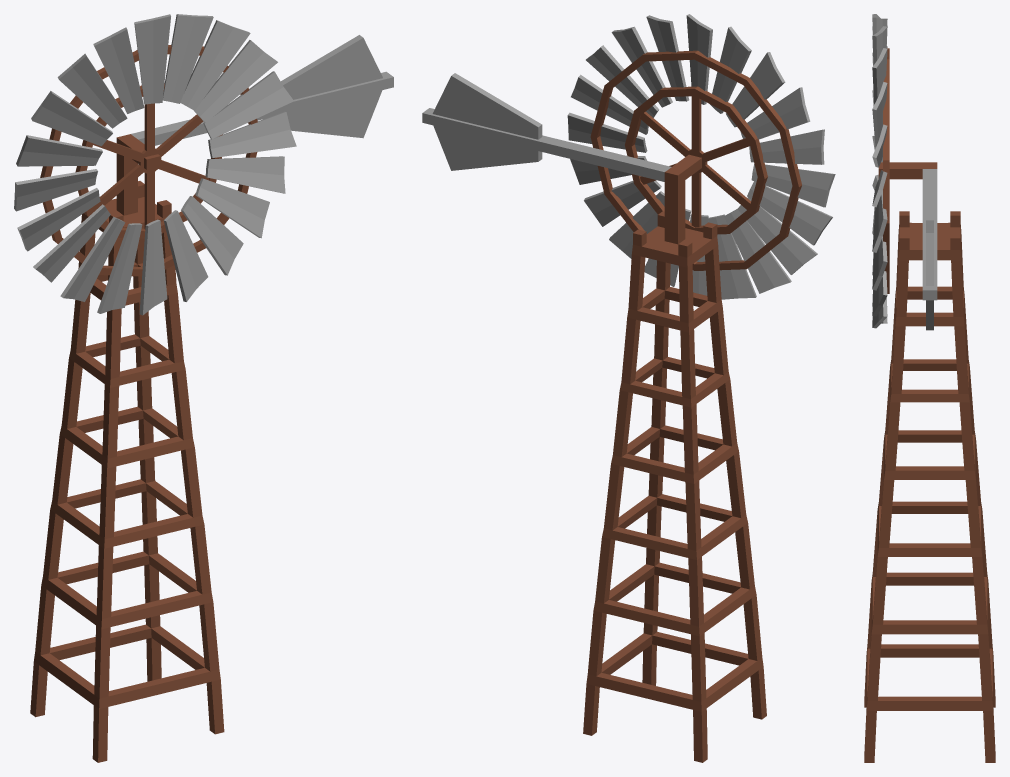
The model's file is Windmill.glb.
The picture shows the model from 3 angles, left to right: view 1: azimuth 30°, elevation 25°; view 2: azimuth 150°, elevation 25°; view 3: azimuth 270°, elevation 25°; orthographic projection. The views are drawn at different scales.
Parts seen in each view (by area): view 1: Windmill, Windmill_Blades; view 2: Windmill, Windmill_Blades; view 3: Windmill, Windmill_Blades.
Boxes of the visible parts, <box> form: Windmill: <box>30,35,393,762</box>; Windmill_Blades: <box>14,14,296,315</box>; Windmill: <box>422,73,766,762</box>; Windmill_Blades: <box>567,14,835,299</box>; Windmill: <box>864,162,995,762</box>; Windmill_Blades: <box>872,14,889,328</box>.
Bounding box in the file's own units: 6.51 × 11.2 × 1.9.
